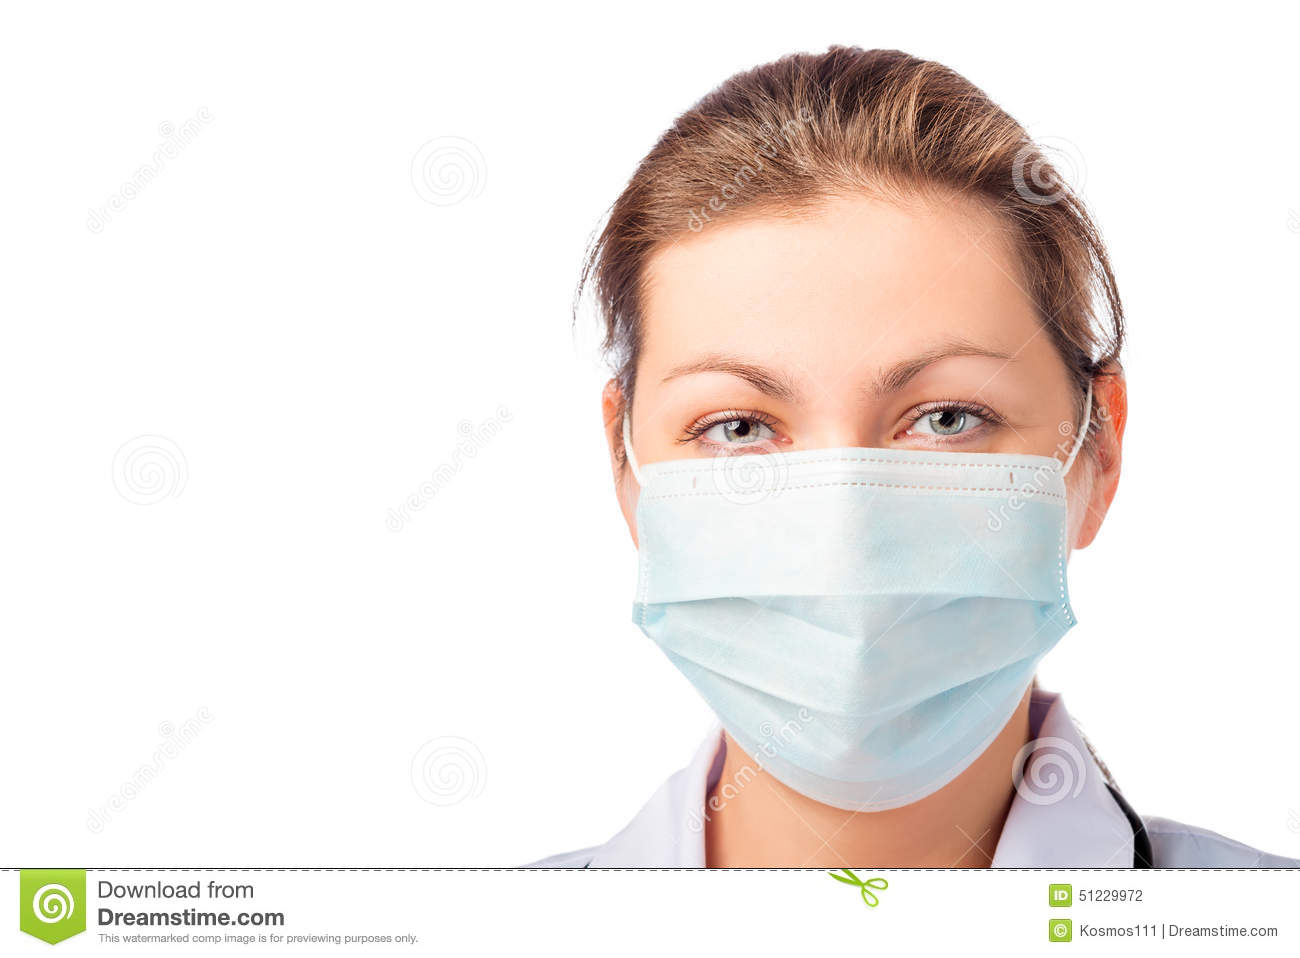mask: (619, 454, 1085, 799)
